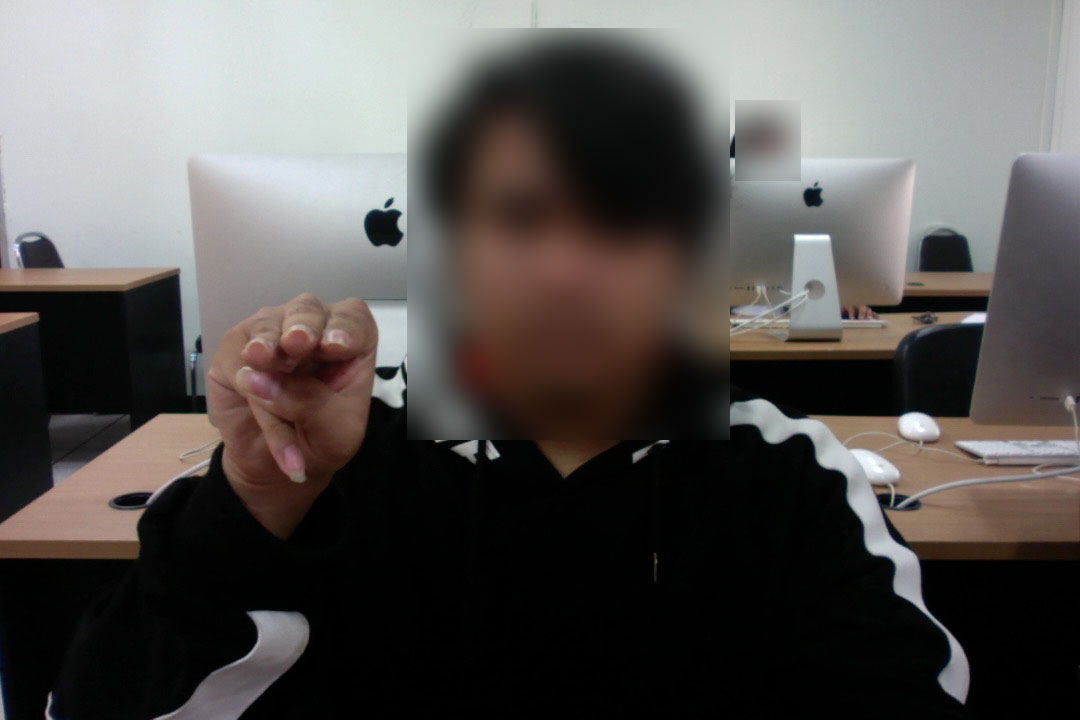mor: (199, 279, 384, 490)
